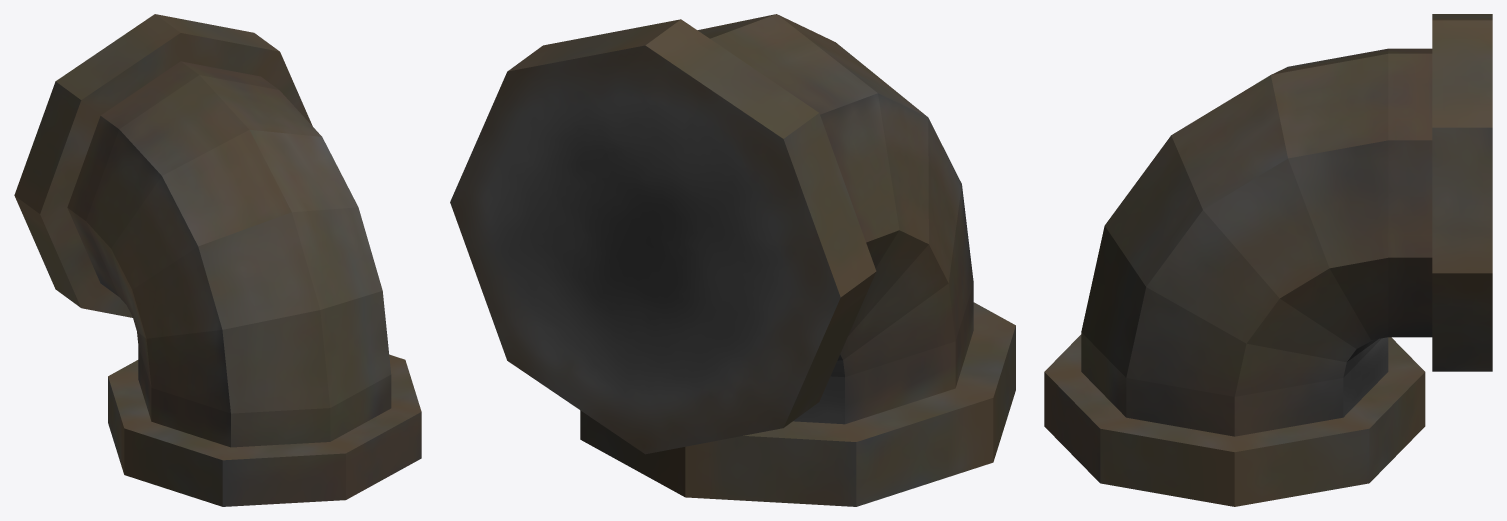
File: pipe_corner_grime.obj
3 renders of one model, left to right at view 1: azimuth 30°, elevation 25°; view 2: azimuth 150°, elevation 25°; view 3: azimuth 270°, elevation 25°, orthographic. The views are drawn at different scales.
Visible parts, largest first — view 1: pipe_corner_grime; view 2: pipe_corner_grime; view 3: pipe_corner_grime.
Part boxes in pixels (bbox=[...]): pipe_corner_grime: bbox=[14, 14, 421, 506]; pipe_corner_grime: bbox=[450, 14, 1015, 506]; pipe_corner_grime: bbox=[1044, 14, 1492, 506].
Size of the model in its own units: 0.124 by 0.146 by 0.146.
